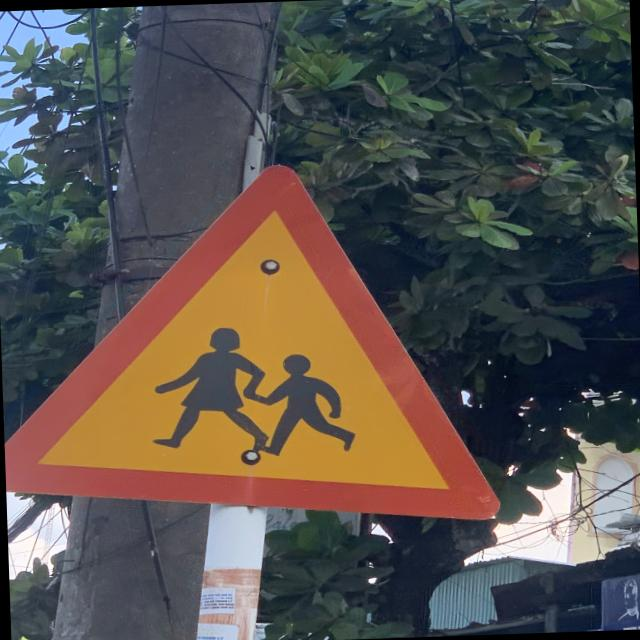Vong_Xuyen: (0, 152, 495, 537)
